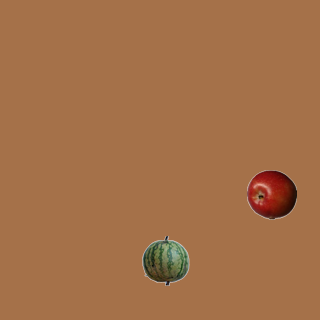Apple Braeburn: (246, 169, 296, 219)
Watermelon: (140, 235, 190, 285)
